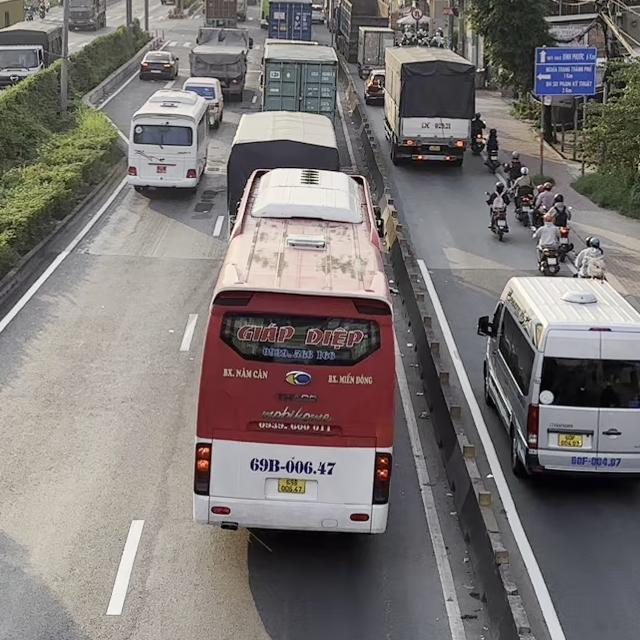bus: (191, 166, 396, 535), (126, 88, 209, 191)
car: (476, 274, 639, 480), (139, 50, 179, 80), (364, 68, 385, 105)
motorcycle: (483, 191, 509, 241), (535, 241, 561, 275), (514, 192, 534, 223), (483, 149, 500, 172), (470, 132, 485, 155)
truck: (382, 45, 476, 166), (259, 39, 339, 120), (188, 26, 254, 103), (332, 0, 391, 62), (356, 26, 397, 79), (266, 0, 313, 41), (69, 0, 111, 31)
